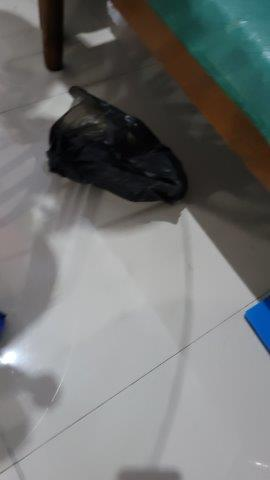plastik: (49, 86, 188, 205)
